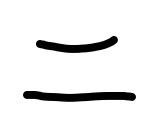eqv: (15, 32, 138, 104)
